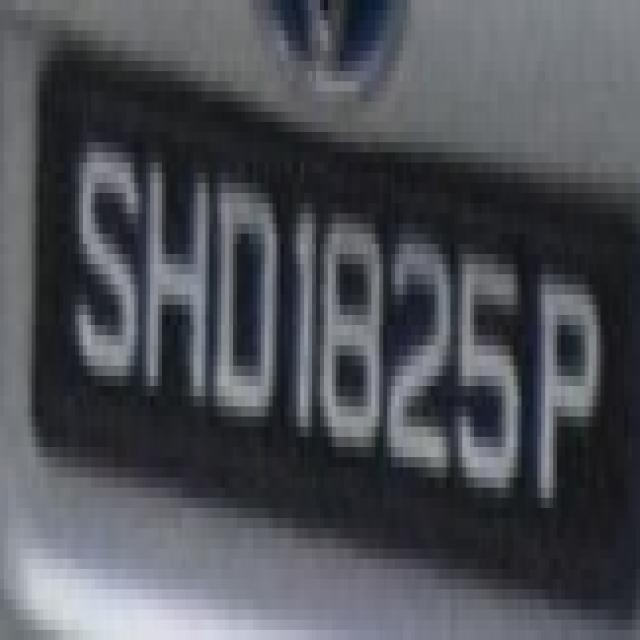1: (268, 173, 320, 437)
2: (372, 213, 454, 468)
5: (442, 223, 526, 488)
B: (308, 183, 387, 447)
D: (206, 152, 280, 416)
H: (134, 132, 213, 396)
P: (522, 244, 608, 498)
S: (55, 112, 138, 376)
